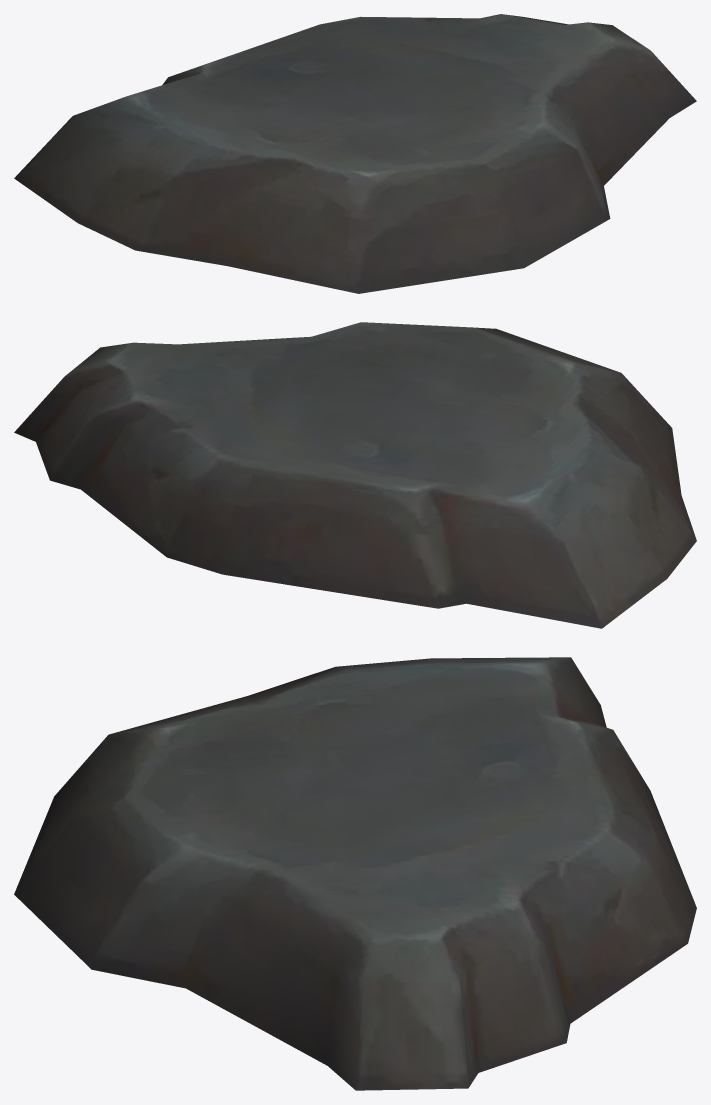
3 renders of one model, top to bottom at view 1: azimuth 30°, elevation 25°; view 2: azimuth 150°, elevation 25°; view 3: azimuth 270°, elevation 25°, orthographic. The views are drawn at different scales.
Bounding box in the file's own units: 2.79 × 0.3405 × 2.09.
1 material, 1 textured.
